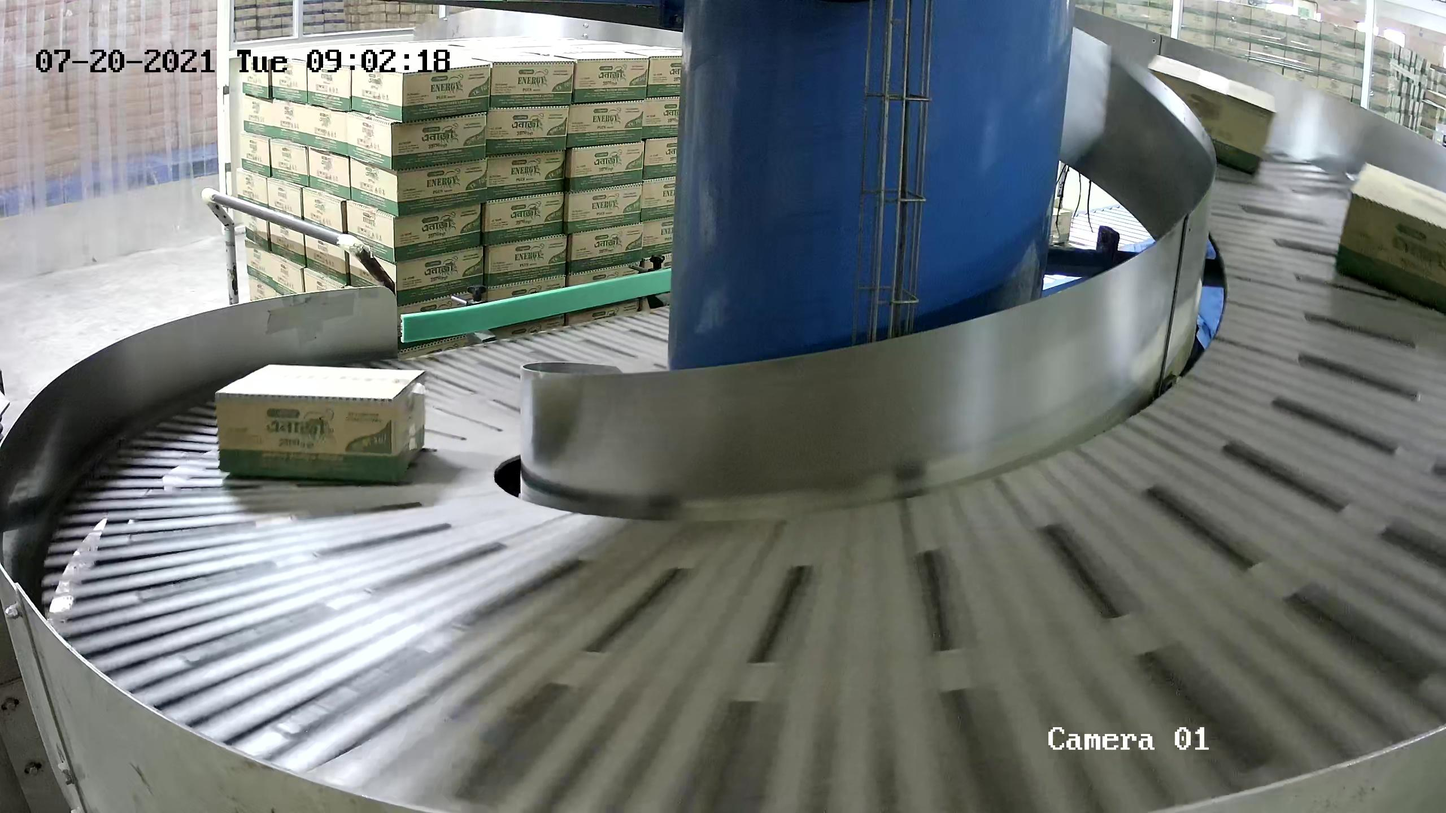Box: (213, 361, 429, 487), (1334, 160, 1446, 319), (1146, 51, 1278, 177)
